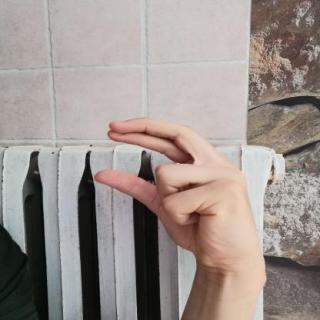DHELL: (84, 110, 278, 270)
